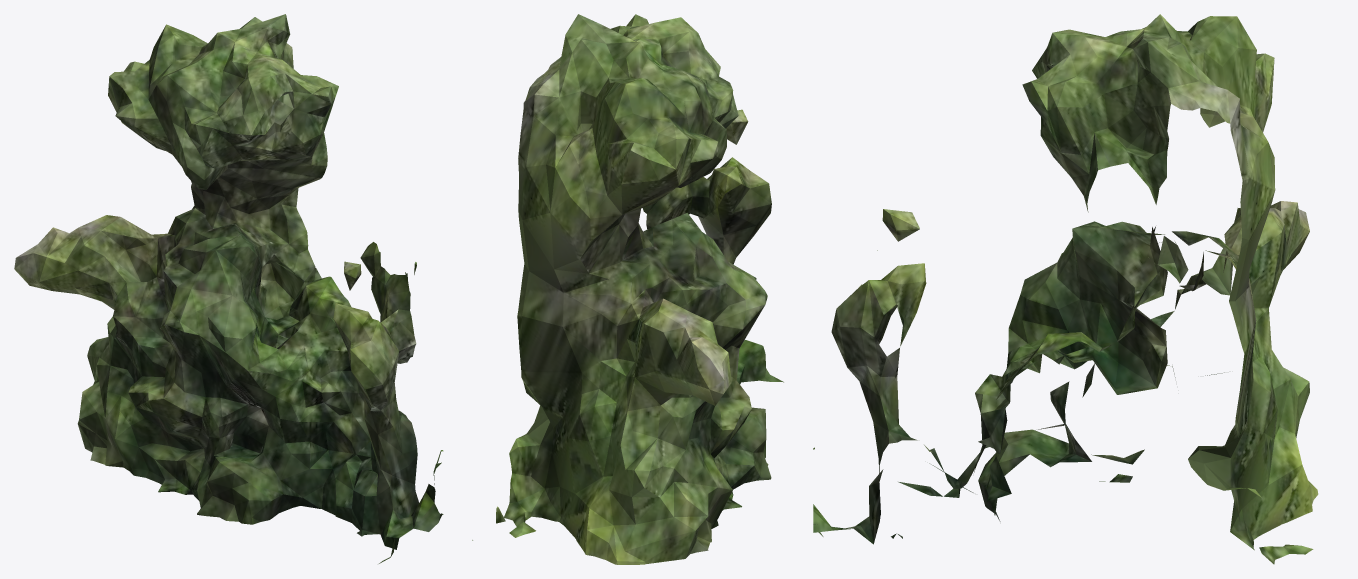
The picture shows the model from 3 angles, left to right: view 1: azimuth 30°, elevation 25°; view 2: azimuth 150°, elevation 25°; view 3: azimuth 270°, elevation 25°; orthographic projection. The views are drawn at different scales.
Size of the model in its own units: 12.06 by 22.83 by 21.36.
Materials: 3 (3 with a texture image).
